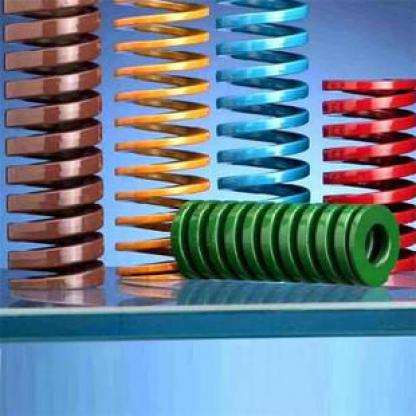FOD: (0, 2, 106, 300), (109, 0, 214, 289), (214, 0, 317, 207), (168, 199, 402, 289), (319, 74, 415, 292)
